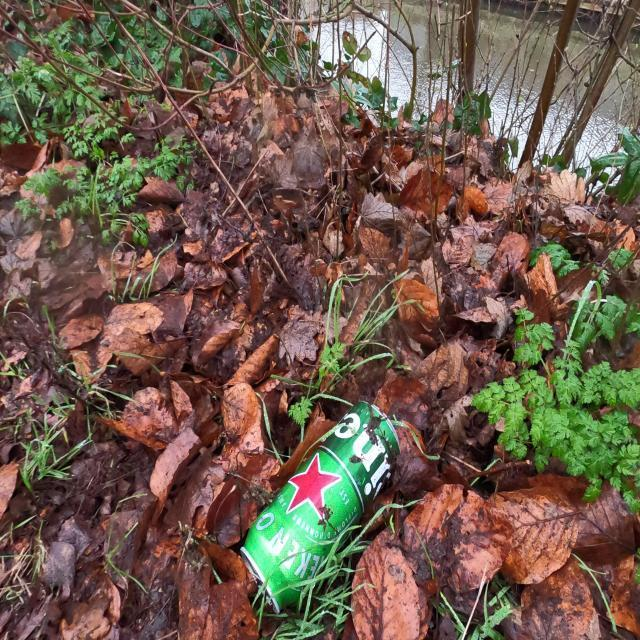Can-Metal: (238, 410, 403, 596)
